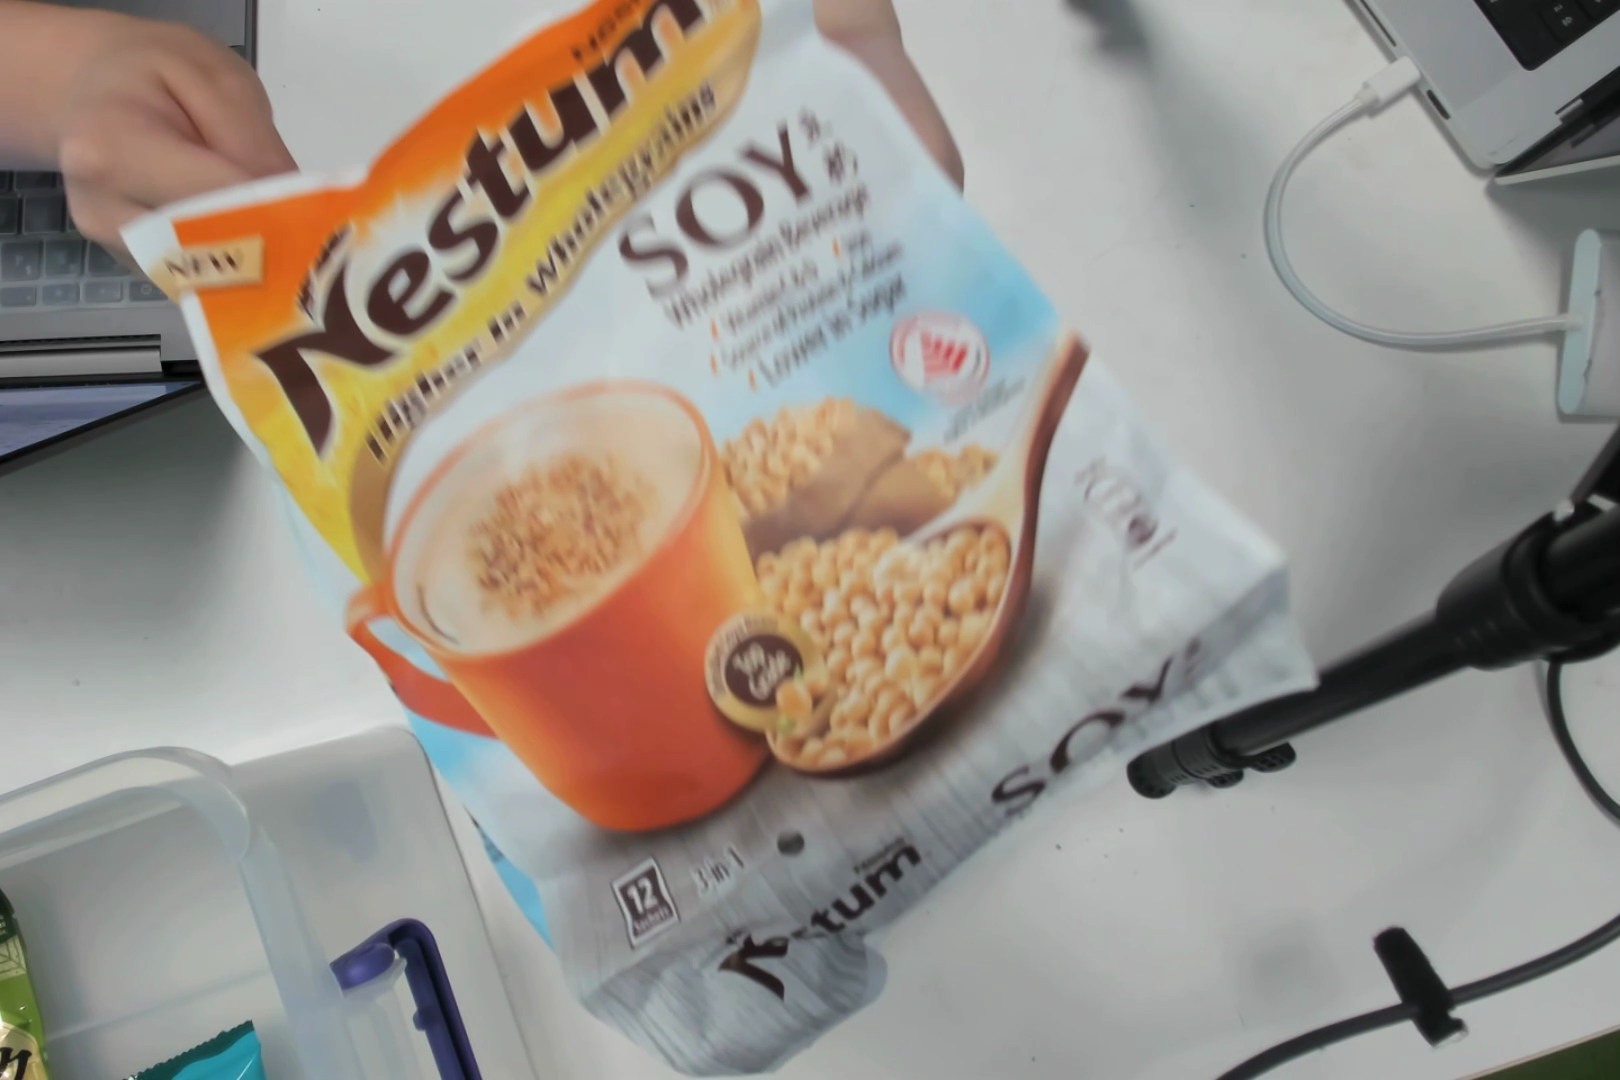e: (303, 14, 1195, 980)
